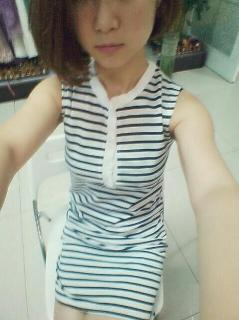vest: (55, 58, 183, 319)
